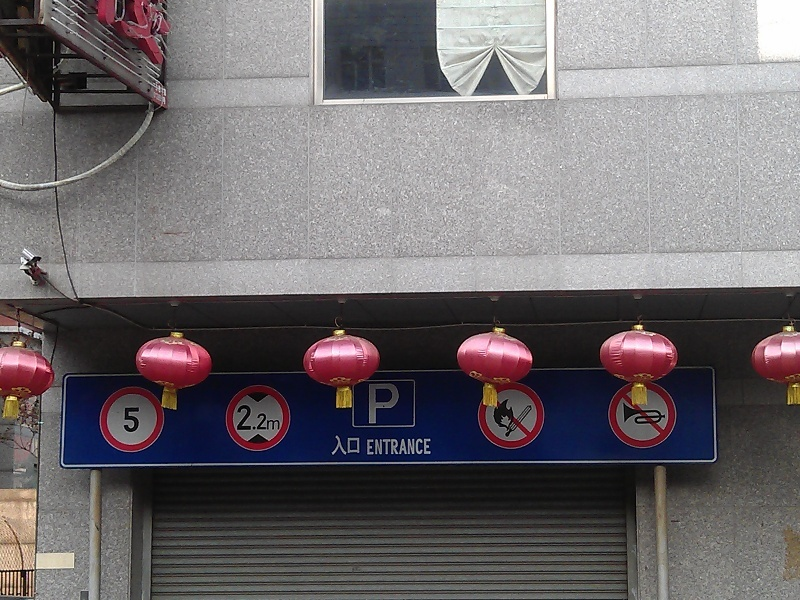text: (97, 1, 112, 71), (113, 1, 128, 71), (129, 1, 144, 71), (145, 1, 160, 71), (161, 1, 174, 71), (369, 382, 384, 428), (385, 382, 400, 428), (241, 404, 256, 432), (257, 404, 272, 432), (129, 405, 141, 434), (337, 434, 352, 457), (417, 437, 433, 458), (369, 437, 384, 458), (385, 437, 400, 458), (401, 437, 416, 458), (353, 434, 363, 457), (273, 404, 280, 432), (329, 434, 336, 457), (124, 405, 128, 434), (236, 404, 240, 432), (161, 84, 167, 97), (154, 92, 160, 105), (95, 1, 96, 71), (155, 84, 160, 97), (161, 92, 166, 105), (366, 437, 368, 458)
